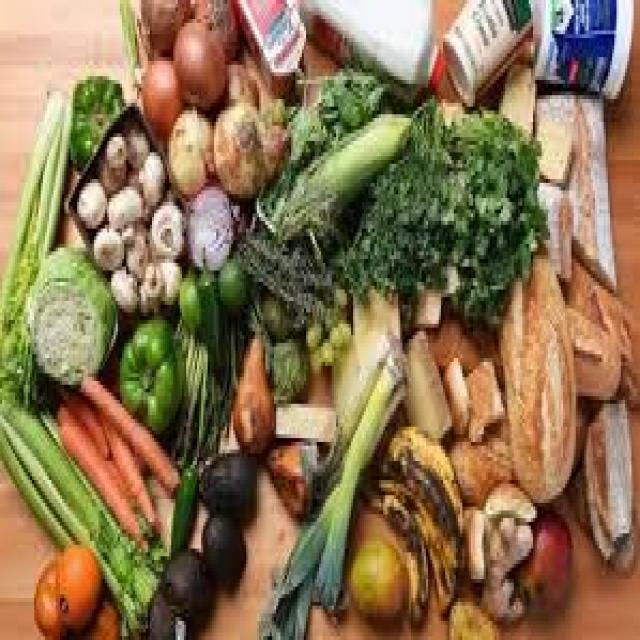organic waste: (253, 324, 407, 636), (344, 95, 540, 324), (0, 384, 158, 636), (0, 80, 68, 400), (498, 251, 572, 499), (261, 110, 409, 228), (287, 42, 392, 183), (537, 88, 612, 282), (227, 194, 334, 324), (54, 412, 148, 552), (24, 240, 116, 381), (379, 423, 462, 579), (77, 366, 178, 488), (563, 252, 638, 412), (377, 469, 458, 617), (360, 476, 428, 625), (580, 392, 634, 576), (98, 412, 158, 537), (118, 312, 180, 419), (171, 404, 214, 556), (263, 434, 347, 510), (398, 324, 450, 446), (169, 312, 216, 446), (477, 507, 533, 617), (32, 541, 96, 636), (514, 503, 569, 609), (208, 92, 263, 198), (158, 91, 216, 190), (64, 72, 122, 164), (180, 179, 235, 274), (231, 324, 272, 449), (563, 301, 614, 400), (349, 530, 404, 617), (169, 15, 223, 103), (192, 449, 256, 522), (448, 431, 510, 506), (175, 267, 222, 362), (135, 42, 184, 129), (195, 244, 227, 377), (199, 503, 244, 594), (460, 351, 503, 438), (154, 545, 208, 613), (535, 179, 572, 278), (58, 381, 107, 453), (250, 106, 287, 190), (188, 0, 238, 61), (533, 114, 574, 187), (139, 0, 192, 53), (430, 308, 482, 362), (497, 57, 533, 133), (482, 472, 535, 522), (265, 332, 304, 396), (438, 350, 466, 430), (148, 194, 182, 259), (448, 591, 497, 636), (146, 583, 186, 636), (458, 499, 484, 579), (102, 175, 146, 221), (223, 54, 259, 110), (471, 316, 505, 370), (214, 251, 246, 305), (118, 213, 150, 267), (257, 282, 289, 335), (98, 130, 126, 190), (79, 598, 122, 636), (107, 259, 137, 309), (92, 221, 122, 267), (73, 179, 103, 225), (118, 0, 139, 65), (406, 282, 438, 324), (154, 255, 178, 305), (122, 122, 148, 164), (302, 339, 323, 373), (323, 316, 338, 354), (144, 256, 158, 294), (304, 316, 321, 347), (135, 274, 150, 309), (330, 278, 349, 305), (54, 400, 70, 430), (319, 335, 334, 362), (441, 103, 460, 118), (338, 316, 351, 335)
